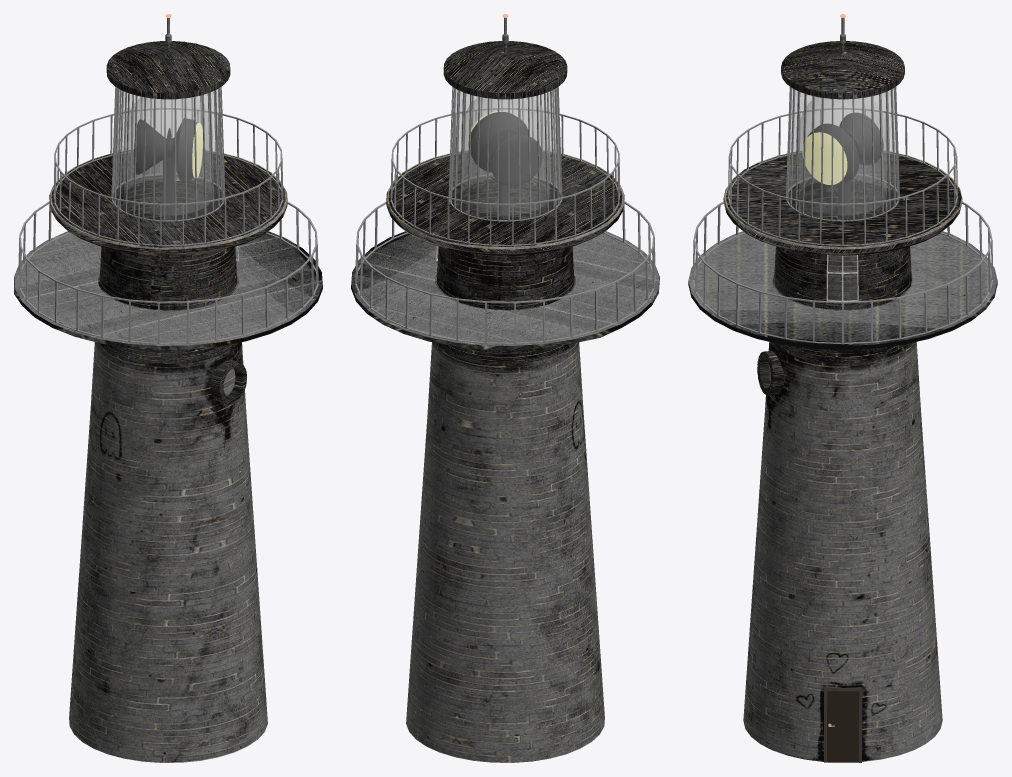
The model's file is old_lighthouse.glb.
3 renders of one model, left to right at view 1: azimuth 30°, elevation 25°; view 2: azimuth 150°, elevation 25°; view 3: azimuth 270°, elevation 25°, orthographic.
Parts seen in each view (by area): view 1: LIGHTHOUSE_2; view 2: LIGHTHOUSE_2; view 3: LIGHTHOUSE_2.
Boxes of the visible parts, bbox=[...] form: LIGHTHOUSE_2: bbox=[14, 14, 322, 762]; LIGHTHOUSE_2: bbox=[351, 14, 659, 762]; LIGHTHOUSE_2: bbox=[688, 14, 997, 762].
Size of the model in its own units: 2.7 by 6.84 by 2.7.
Materials: 11 (2 with a texture image).
